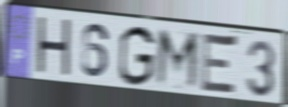3: (245, 39, 277, 99)
6: (81, 21, 110, 82)
E: (199, 30, 240, 100)
G: (117, 24, 157, 88)
H: (34, 14, 73, 82)
M: (153, 27, 201, 94)
